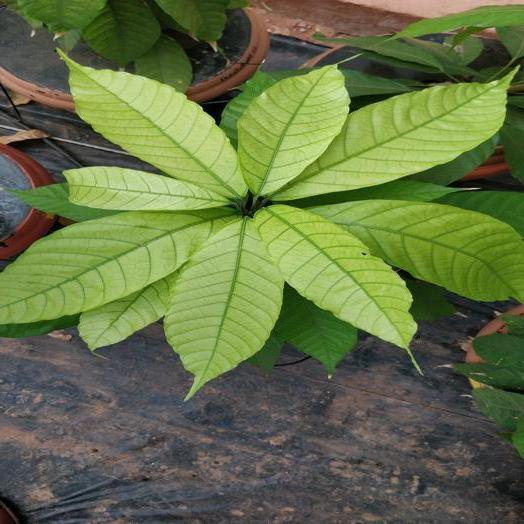Healthy Leaf: (454, 312, 523, 457), (275, 286, 357, 377), (83, 0, 160, 65), (294, 178, 461, 206), (391, 4, 523, 37), (220, 71, 276, 145), (10, 183, 116, 221), (436, 191, 523, 236), (134, 35, 190, 91), (155, 0, 226, 40), (18, 0, 105, 32), (341, 69, 414, 97)
Iron: (275, 72, 512, 199), (60, 52, 244, 197), (0, 211, 231, 322), (255, 205, 415, 351), (165, 219, 283, 398), (309, 200, 523, 298), (238, 66, 348, 196), (79, 273, 175, 348), (65, 166, 228, 210)
